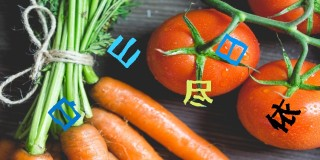依: (265, 99, 301, 133)
尽: (182, 79, 215, 108)
山: (106, 34, 141, 69)
日: (214, 33, 248, 66)
白: (48, 97, 81, 130)
